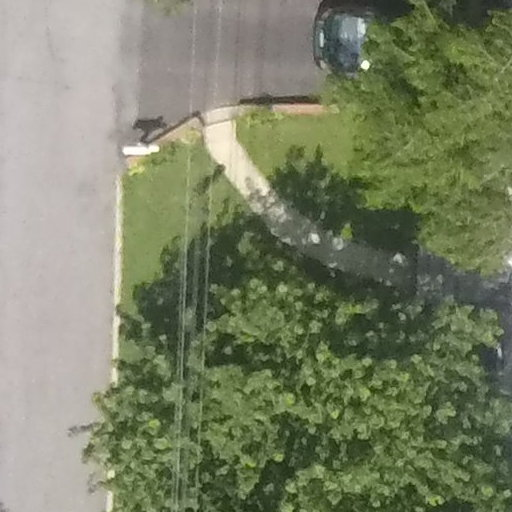driveway: (146, 1, 408, 133)
